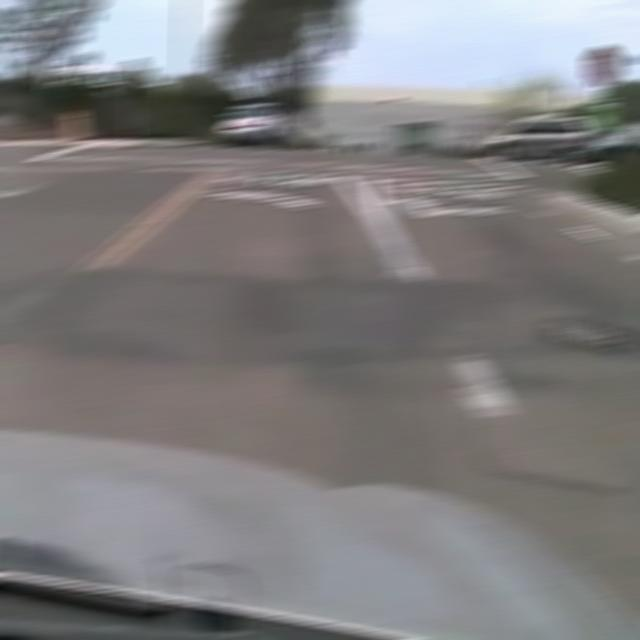stop_sign: (584, 43, 622, 86)
